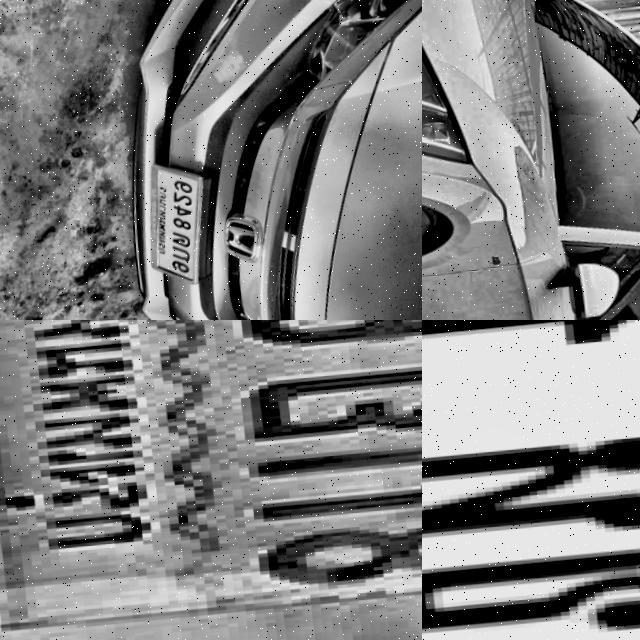license-plate: (0, 320, 422, 640), (422, 320, 640, 640), (134, 163, 214, 290)
